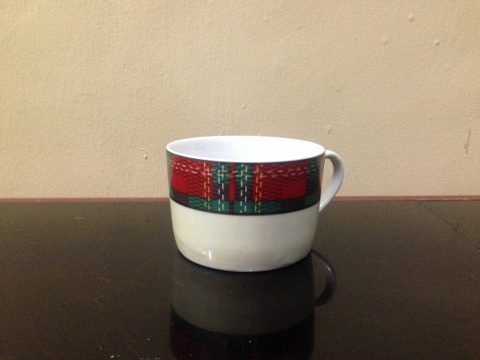tempat minum: (165, 135, 344, 273)
